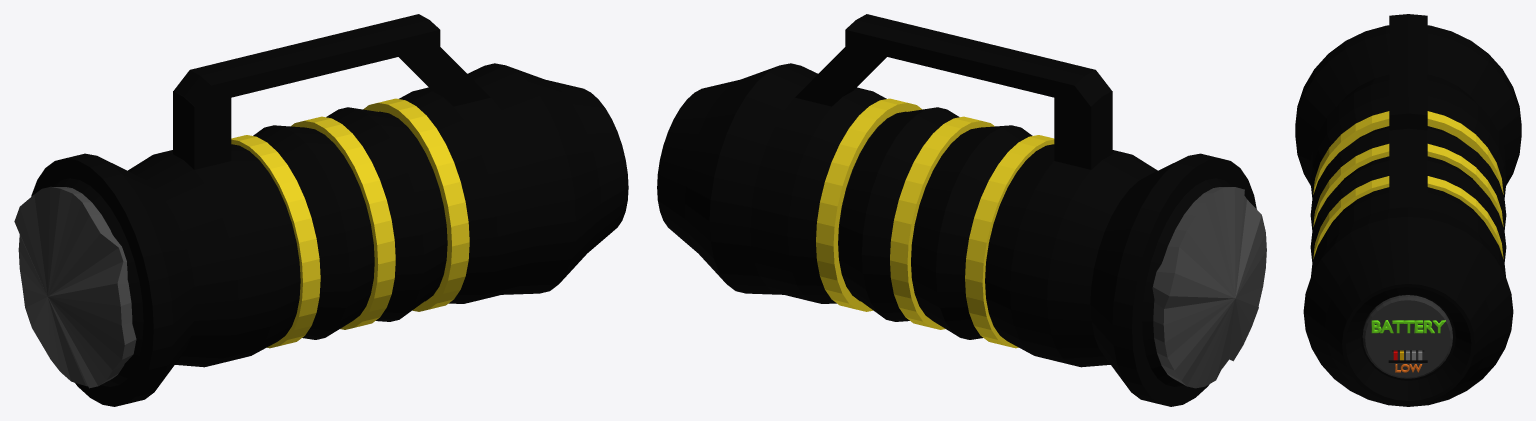
Rendered from Flashlight.glb.
The picture shows the model from 3 angles, left to right: view 1: azimuth 30°, elevation 25°; view 2: azimuth 150°, elevation 25°; view 3: azimuth 270°, elevation 25°; orthographic projection. The views are drawn at different scales.
Visible parts, largest first — view 1: Cylinder, Cylinder.006, Circle.002, Circle, Circle.001; view 2: Cylinder, Cylinder.006, Circle.002, Circle, Circle.001; view 3: Cylinder, Cylinder.001, Circle.001, Circle, Circle.002.
Part boxes in pixels (bbox=[...]): Cylinder: bbox=[31, 14, 628, 406]; Cylinder.006: bbox=[14, 187, 136, 388]; Circle.002: bbox=[363, 98, 469, 311]; Circle: bbox=[291, 116, 395, 329]; Circle.001: bbox=[231, 135, 320, 348]; Cylinder: bbox=[657, 14, 1256, 406]; Cylinder.006: bbox=[1152, 187, 1266, 388]; Circle.002: bbox=[816, 98, 922, 311]; Circle: bbox=[890, 116, 994, 329]; Circle.001: bbox=[965, 135, 1054, 348]; Cylinder: bbox=[1295, 14, 1521, 406]; Cylinder.001: bbox=[1362, 295, 1452, 378]; Circle.001: bbox=[1313, 111, 1503, 194]; Circle: bbox=[1313, 144, 1503, 226]; Circle.002: bbox=[1313, 176, 1503, 258].
Bounding box in the file's own units: 5.7 × 2.96 × 2.32.
